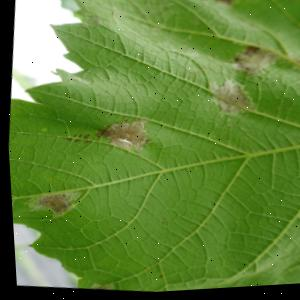Folha: (0, 0, 300, 300)
Fungo: (91, 113, 154, 158), (204, 76, 257, 122), (227, 45, 280, 81), (32, 189, 73, 216), (78, 11, 103, 30), (61, 131, 91, 146), (205, 0, 241, 8), (122, 132, 132, 139)
